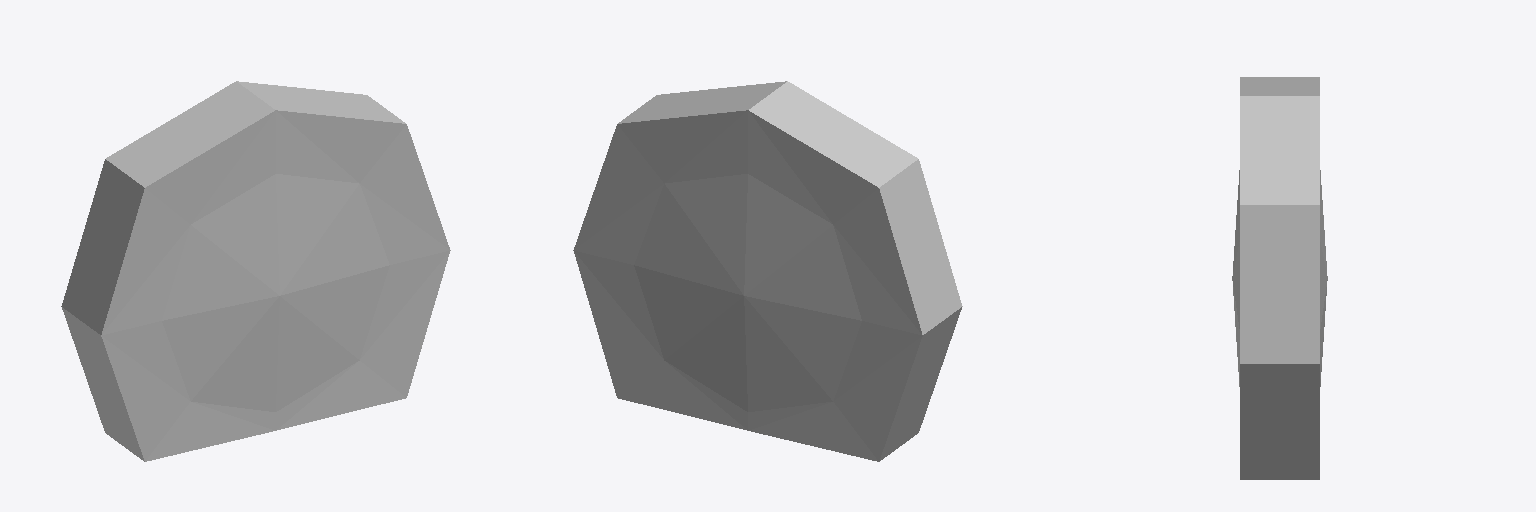
File: side2.obj
3 views of the same model, side by side, from view 1: azimuth 30°, elevation 25°; view 2: azimuth 150°, elevation 25°; view 3: azimuth 270°, elevation 25° (orthographic).
Parts seen in each view (by area): view 1: side2_Cube.008; view 2: side2_Cube.008; view 3: side2_Cube.008.
Part boxes in pixels (x1,y1,x2,y2): side2_Cube.008: (61, 81, 450, 461); side2_Cube.008: (573, 81, 962, 461); side2_Cube.008: (1232, 77, 1327, 479).
Bounding box in the file's own units: 3.39 × 2.98 × 0.8021.